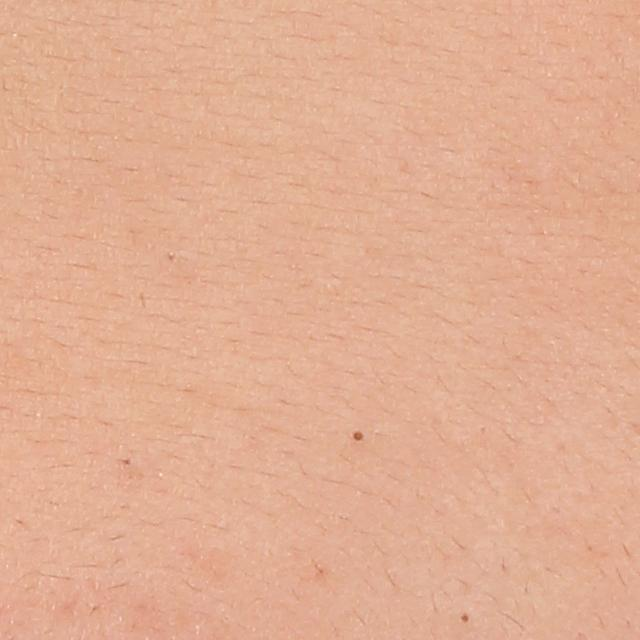comedo: (348, 424, 371, 445), (116, 453, 138, 474), (456, 608, 472, 629)
